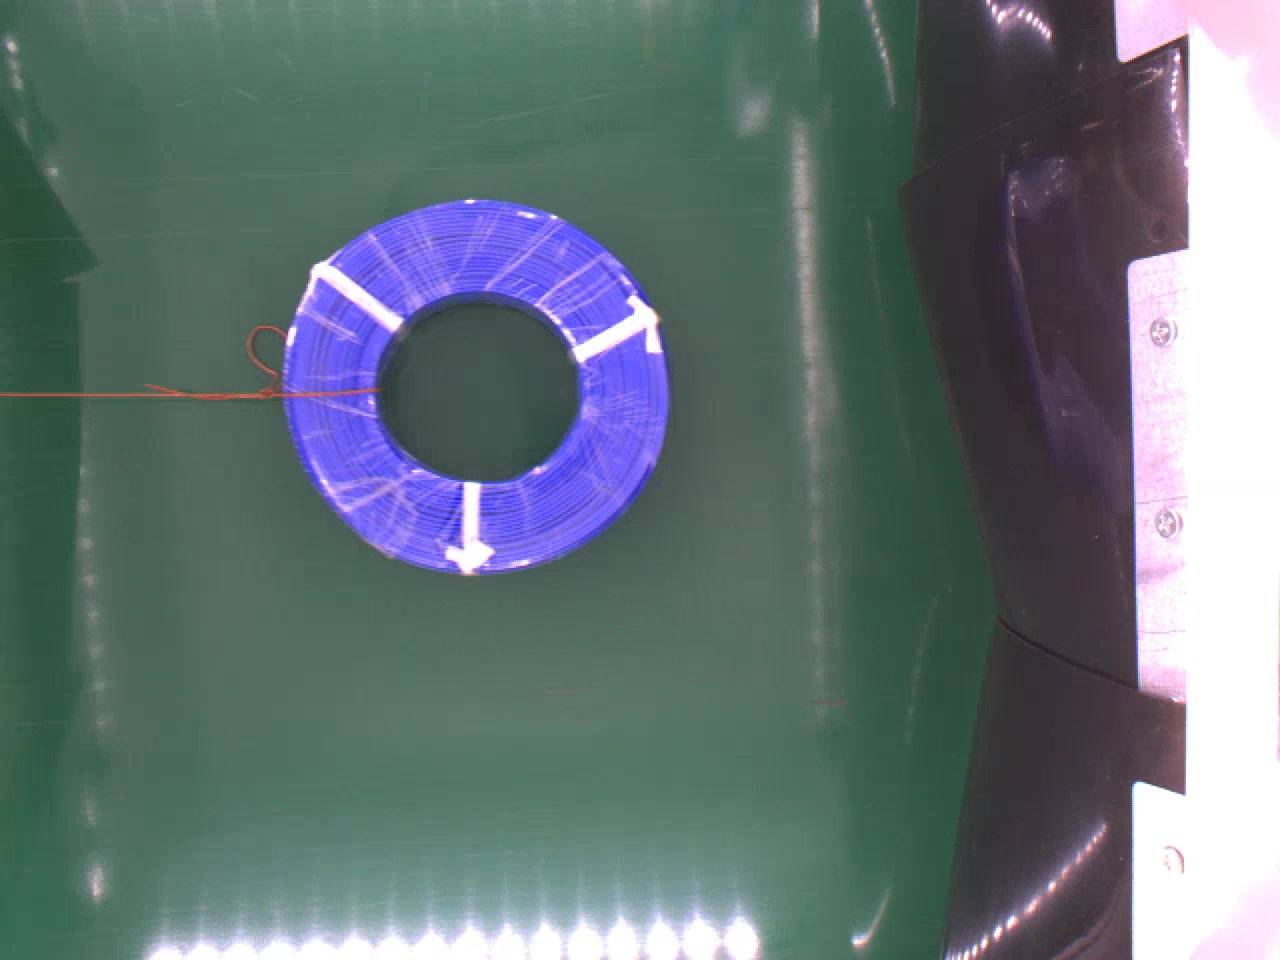blue: (283, 196, 675, 574)
